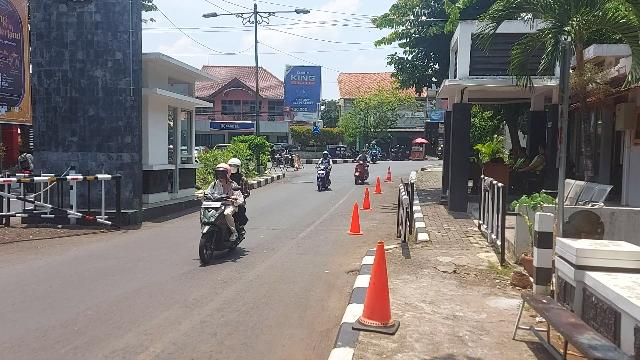helm: (214, 163, 232, 183), (229, 159, 244, 176), (324, 153, 330, 160)
motor: (195, 184, 250, 266), (316, 164, 333, 193), (355, 160, 371, 187)
non-helm: (362, 151, 366, 156)
